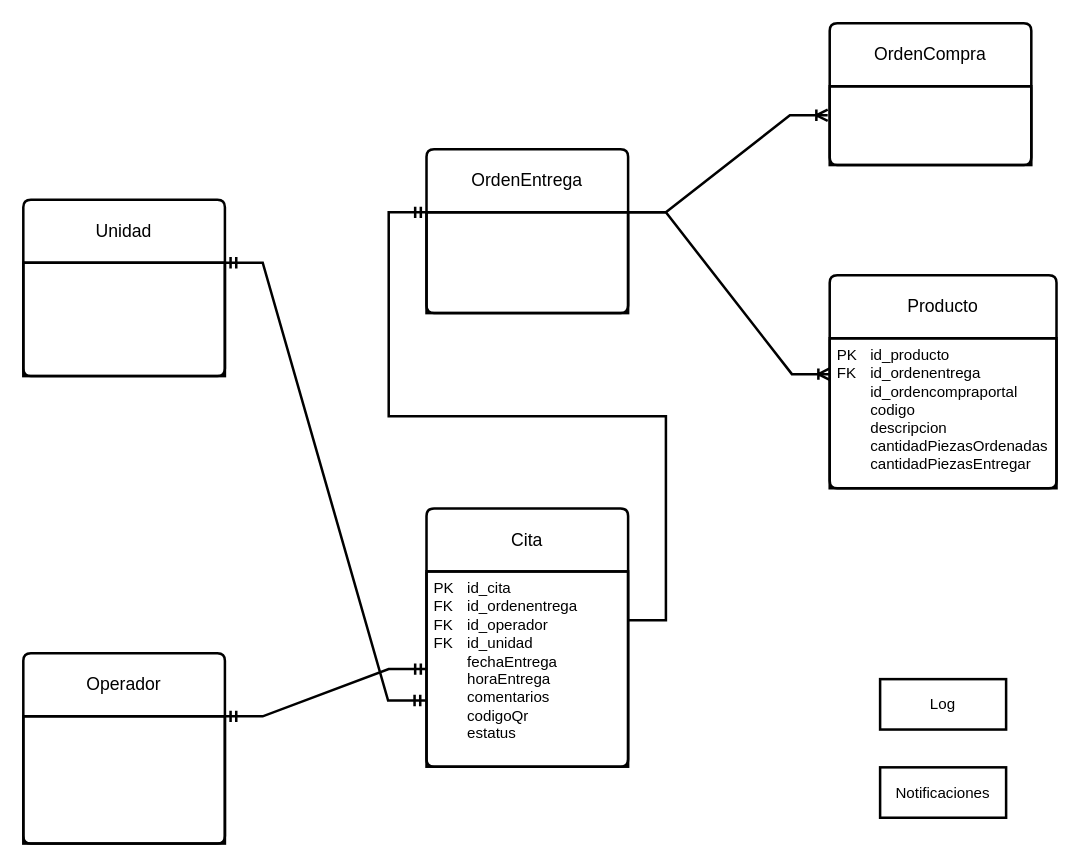
This 1079x866 diagram has some shape labels left out. Here are the shapes that lost their labels. From the top down, the centre of each, then its label:
the point at 930,125: PK id_ordencompra FK id_ordenentrega id_ordencompraportal
the point at 527,262: PK id_ordenentrega id_ordencompraportal id_proveedor fechaPedido
the point at 123,319: PK id_unidad tipoTransporte placas contenedores imgUnidad
the point at 123,779: PK id_operador nombre apellidoParterno apellidoMaterno imgLicencia imgOperador
